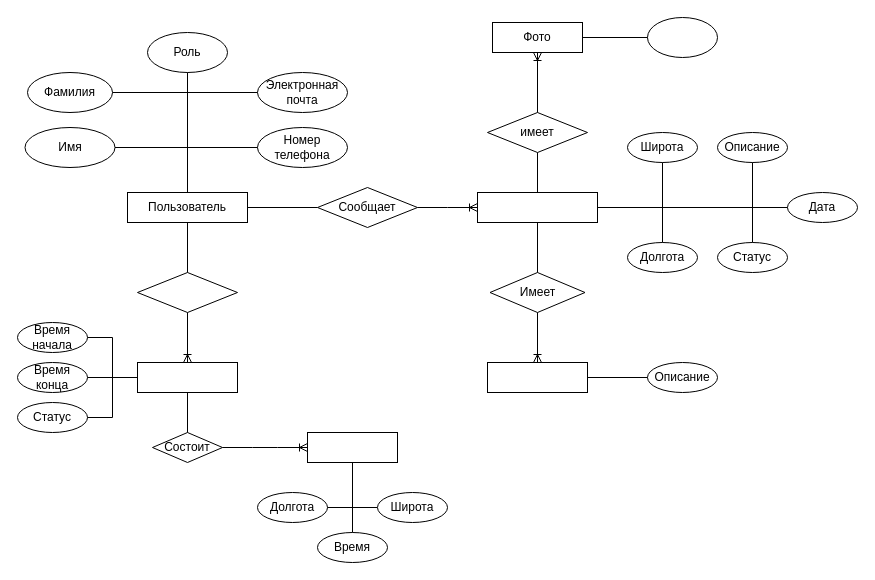
Some shapes in this 875 by 580 pixel diagram are drawn without their labels. The shapes that lost their labels are listed below. From the top down, each one's box as (x1, y1, x2, y2) in pixels, then its label:
(646, 16, 718, 58): Дата загрузки
(476, 192, 598, 222): Происшествие
(136, 272, 238, 312): Проходит
(136, 362, 238, 392): Маршрут
(486, 362, 588, 392): Тип
(306, 432, 398, 462): Координата
